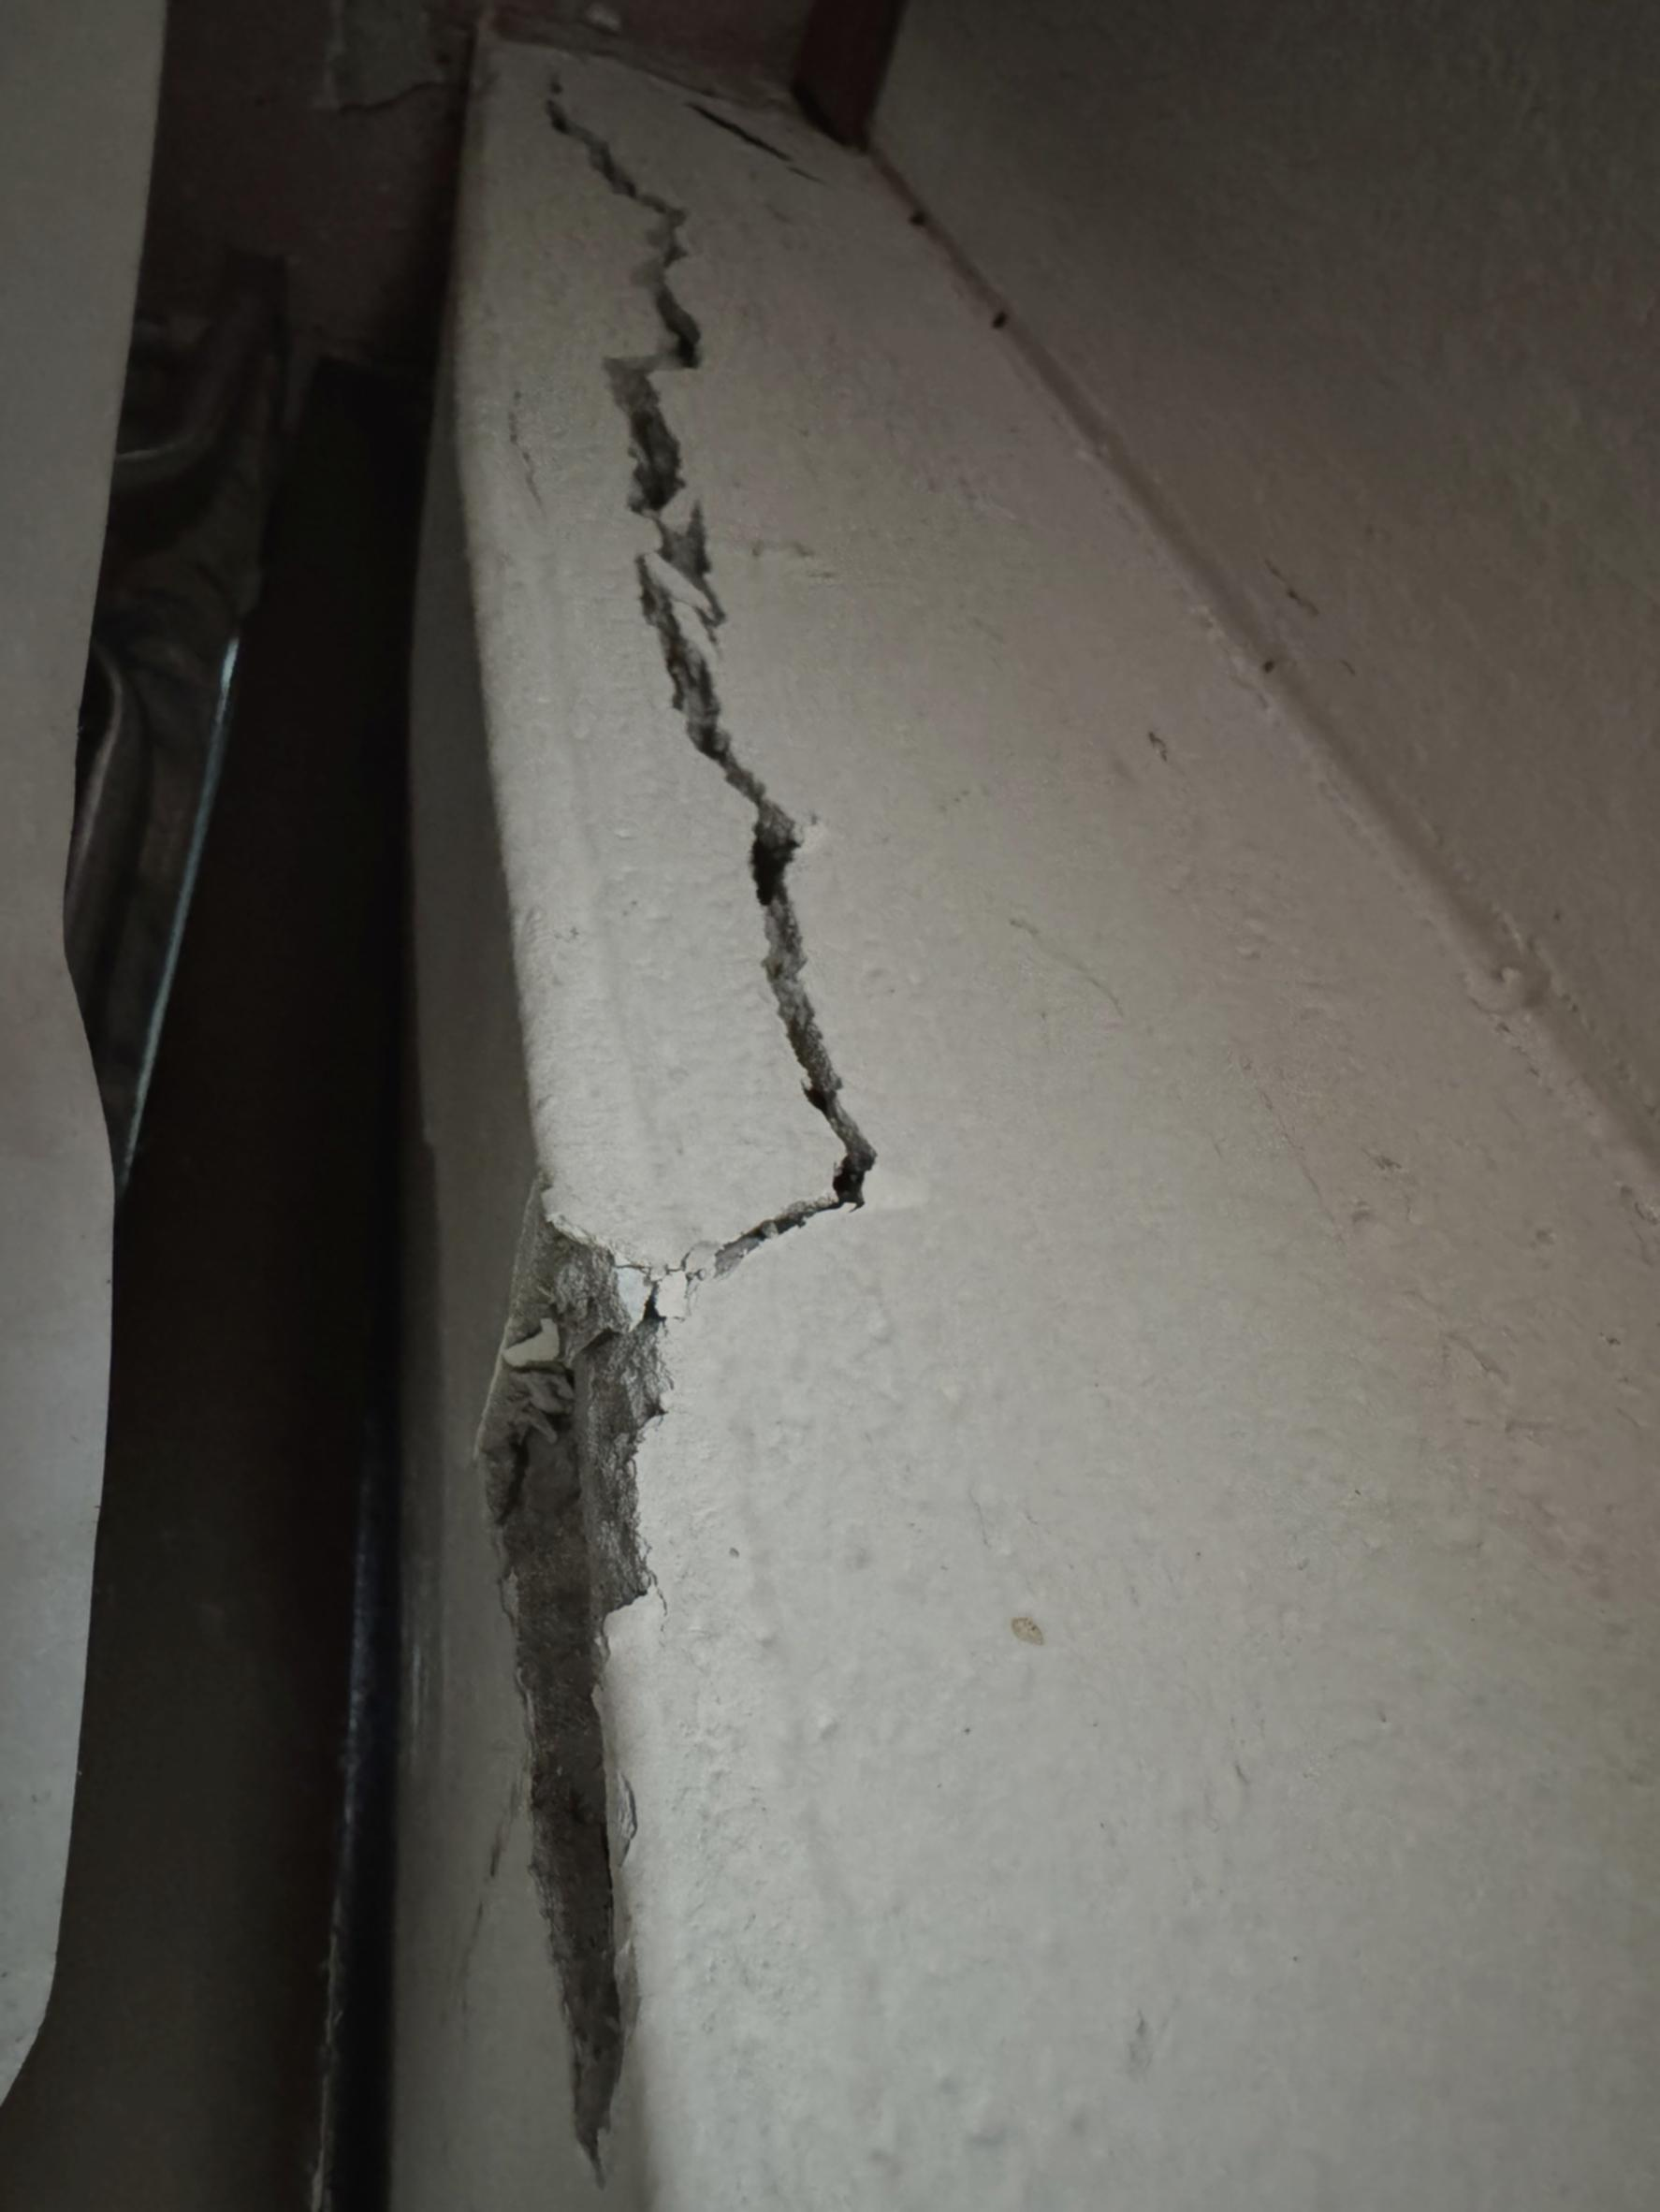High: (420, 38, 924, 2210)
